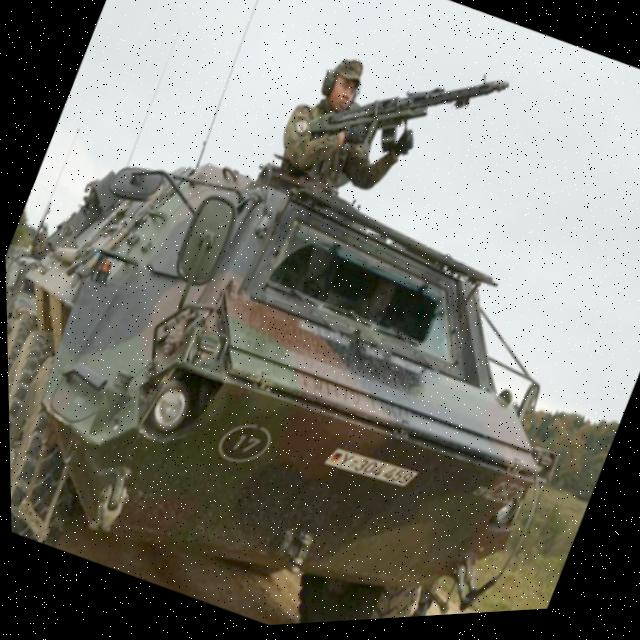MIL_APC: (2, 65, 640, 640)
